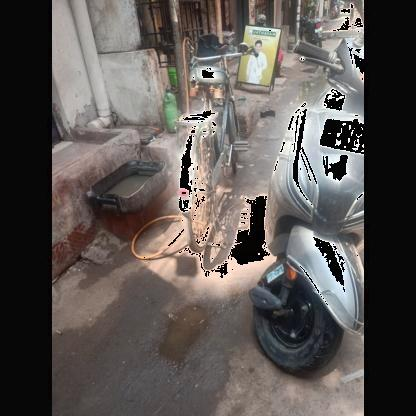Bicycle: (161, 36, 253, 253)
